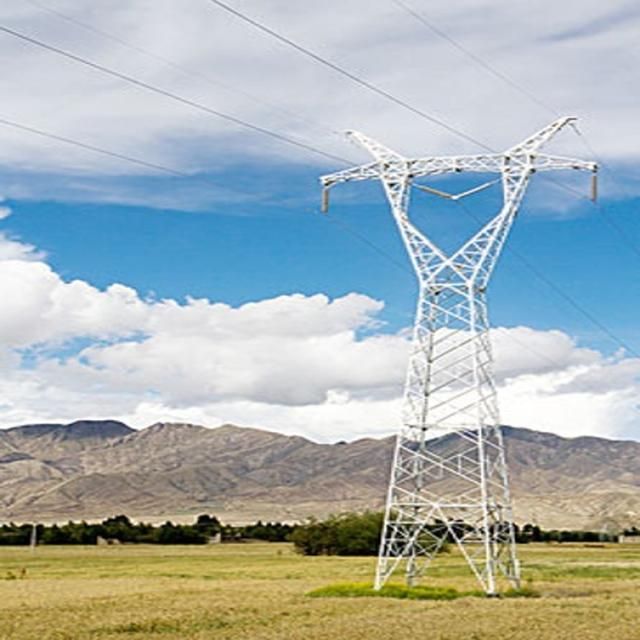non-critical vegetation: (308, 111, 586, 561)
